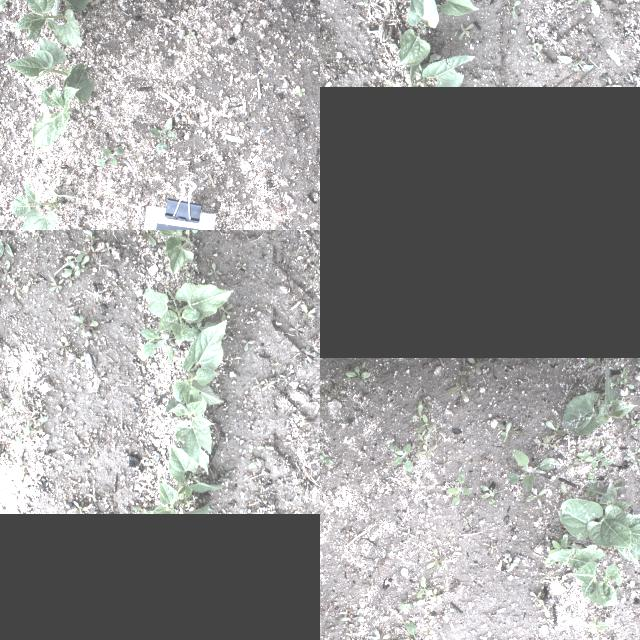crop: (559, 480, 640, 564), (140, 280, 230, 346), (163, 321, 227, 413), (561, 361, 639, 434), (32, 64, 96, 150), (550, 545, 622, 605), (2, 33, 72, 89), (10, 0, 89, 47), (9, 179, 77, 230), (168, 448, 224, 498), (396, 0, 439, 65), (174, 401, 212, 473), (406, 56, 479, 86), (147, 482, 211, 514), (156, 230, 197, 272), (402, 0, 478, 16), (18, 0, 73, 15), (584, 616, 614, 632)
weed: (505, 448, 555, 492), (148, 116, 178, 156), (136, 329, 172, 361), (444, 468, 472, 507), (443, 376, 471, 406), (576, 0, 614, 22), (572, 449, 612, 469), (542, 533, 568, 563), (391, 440, 414, 472), (95, 144, 125, 168), (496, 419, 522, 445), (555, 56, 595, 72), (64, 251, 86, 279), (399, 618, 426, 640), (72, 314, 98, 336), (344, 364, 371, 384), (189, 322, 217, 341), (526, 33, 542, 65), (336, 608, 364, 624), (478, 484, 498, 506), (426, 546, 444, 570), (530, 432, 554, 448), (413, 443, 437, 459), (416, 412, 434, 432), (508, 0, 524, 22), (454, 22, 474, 38), (528, 487, 548, 503), (66, 500, 88, 514), (6, 276, 20, 298), (15, 426, 32, 444), (363, 629, 390, 640), (0, 236, 14, 257), (139, 230, 156, 247), (558, 480, 574, 498), (545, 420, 563, 436), (48, 276, 62, 296), (463, 358, 482, 372), (75, 257, 88, 277), (16, 454, 26, 480), (628, 577, 638, 603), (415, 430, 431, 446), (286, 322, 304, 336), (302, 346, 316, 364), (182, 262, 196, 280), (536, 568, 554, 582), (500, 555, 518, 569), (425, 590, 443, 604), (301, 303, 315, 319), (140, 454, 156, 468), (260, 378, 276, 392), (585, 482, 601, 496), (418, 396, 432, 412), (320, 448, 333, 465), (377, 545, 387, 565), (415, 578, 425, 598), (2, 260, 16, 274), (620, 378, 634, 392), (219, 303, 231, 319), (537, 600, 549, 616), (592, 610, 608, 622), (326, 385, 342, 397), (627, 416, 640, 430), (446, 544, 459, 558), (210, 262, 220, 280), (0, 391, 9, 411), (394, 602, 412, 612), (0, 0, 16, 11), (85, 488, 96, 504), (341, 629, 357, 640), (307, 263, 320, 276), (241, 338, 253, 352), (528, 590, 542, 602), (400, 526, 414, 538), (250, 380, 266, 390), (412, 404, 422, 420), (548, 438, 562, 449), (85, 230, 95, 245), (625, 446, 640, 456), (247, 458, 263, 467), (32, 231, 44, 243), (30, 417, 48, 425), (30, 425, 42, 437), (57, 340, 67, 354), (487, 542, 497, 556), (568, 441, 582, 451), (386, 438, 396, 452), (352, 461, 362, 475), (461, 513, 474, 523), (102, 240, 110, 256), (2, 345, 18, 353), (584, 358, 600, 366), (111, 278, 121, 290), (54, 406, 66, 416), (33, 408, 45, 418), (422, 627, 432, 639), (4, 452, 12, 466), (630, 458, 638, 472), (218, 472, 228, 482), (310, 438, 320, 448), (97, 374, 107, 384), (64, 278, 74, 288), (234, 262, 246, 270), (120, 450, 128, 462), (88, 246, 96, 258), (144, 497, 152, 508), (294, 88, 304, 96), (14, 390, 22, 400), (570, 606, 576, 618), (322, 80, 333, 86), (186, 30, 194, 38), (249, 316, 257, 324), (76, 356, 84, 364), (4, 424, 12, 432), (415, 598, 425, 604), (256, 446, 274, 449), (316, 391, 320, 404), (362, 0, 374, 4), (58, 272, 62, 284), (46, 477, 50, 487), (636, 473, 640, 482), (316, 435, 320, 443), (0, 448, 2, 463), (611, 636, 617, 640), (4, 407, 6, 413)
